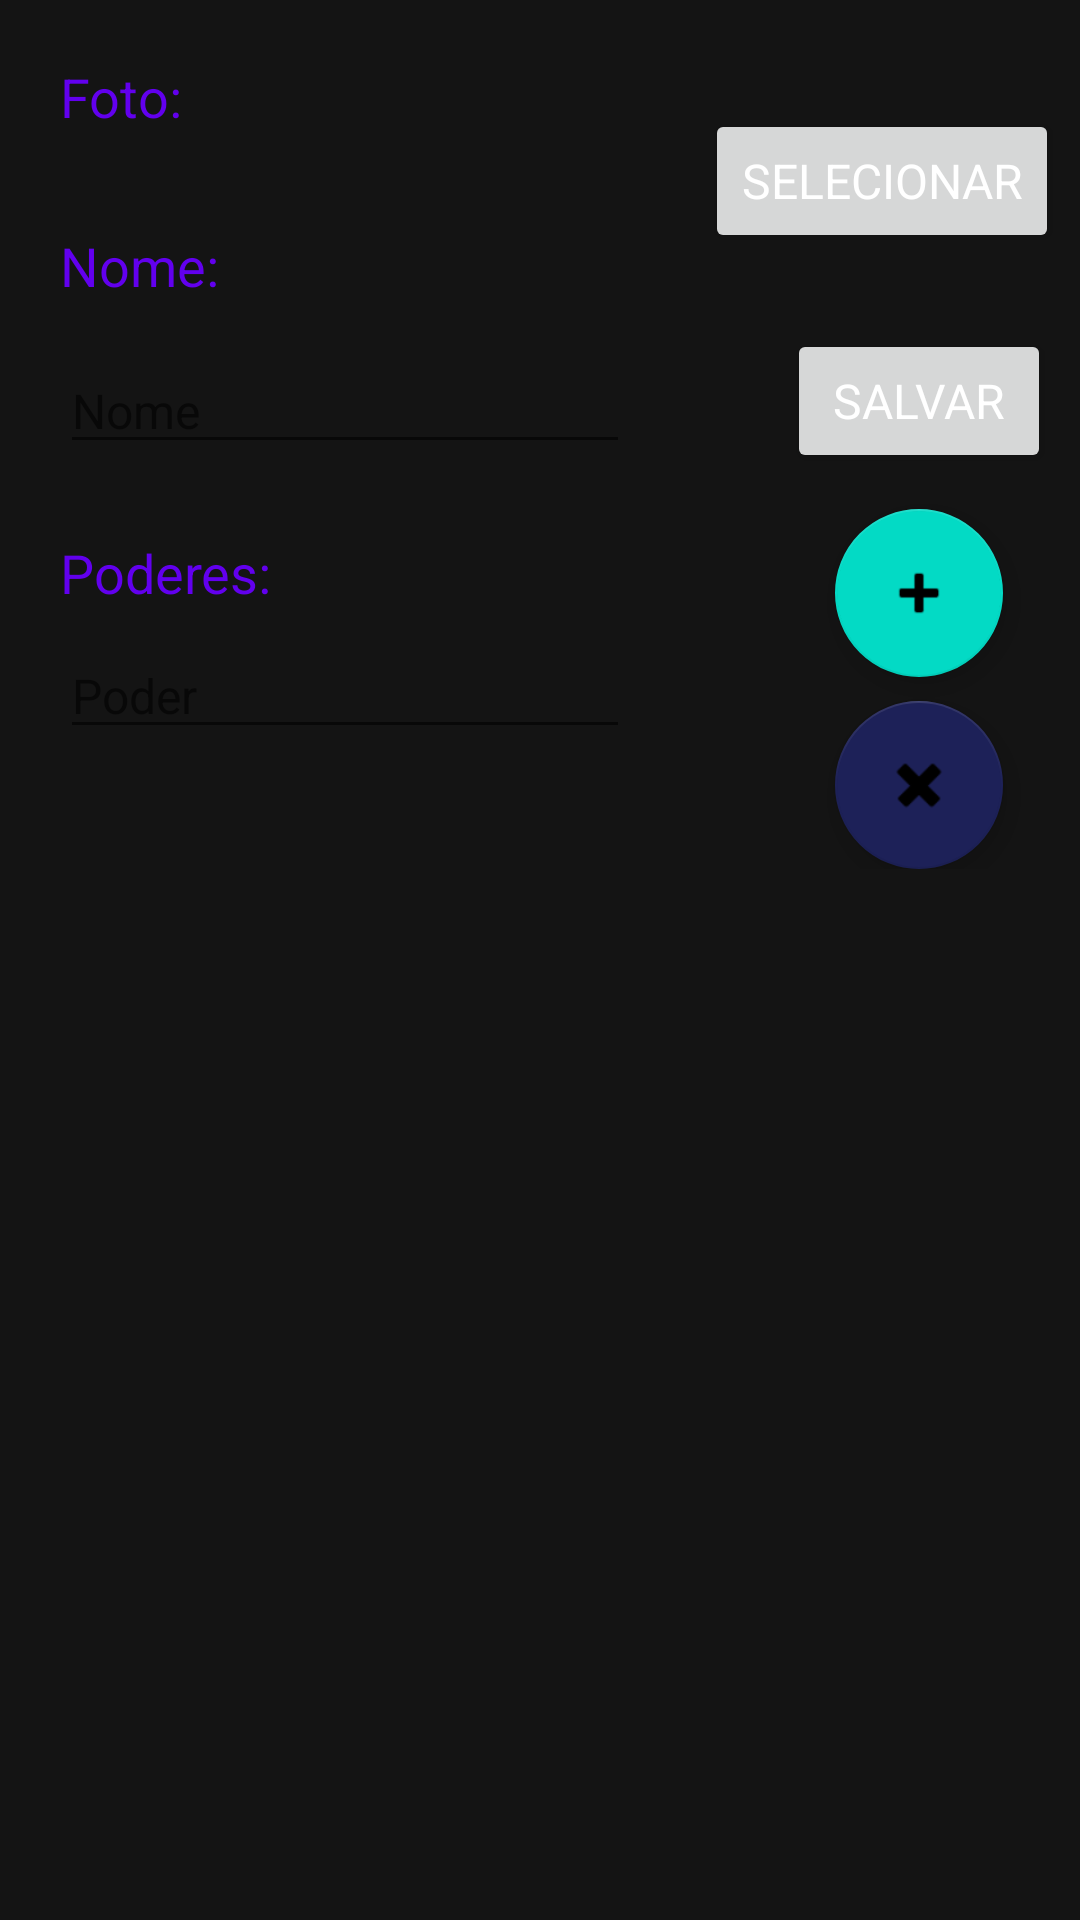

Where icons sit on this 1080px×1920px app screen, as [x1, y1, x2, y2]:
add: [835, 509, 1003, 677]
delete: [835, 701, 1003, 869]
